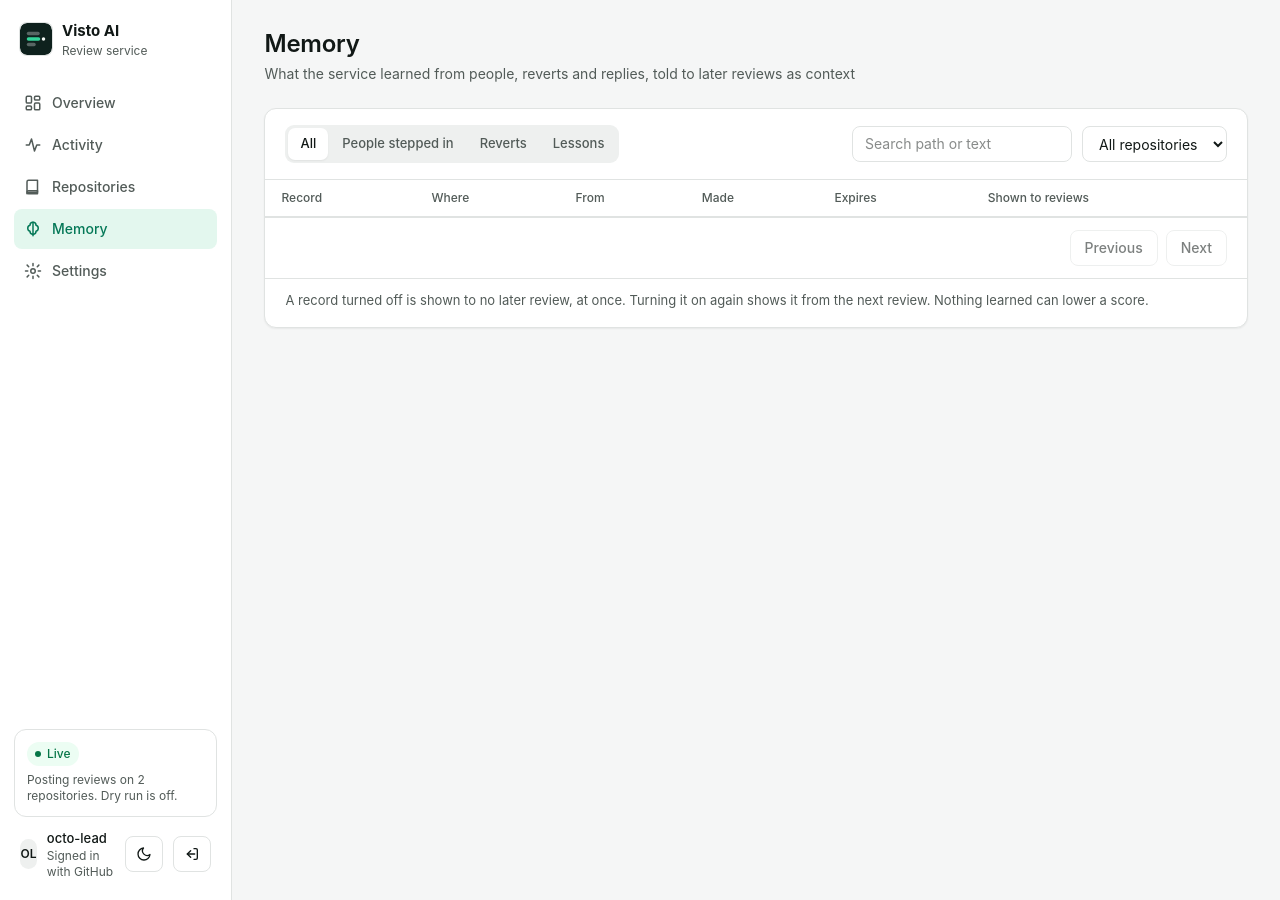
Test case: an older read that answers after a filter change is never shown
Click the button "Reverts". click: (503, 144)
box: [468,128,539,160]
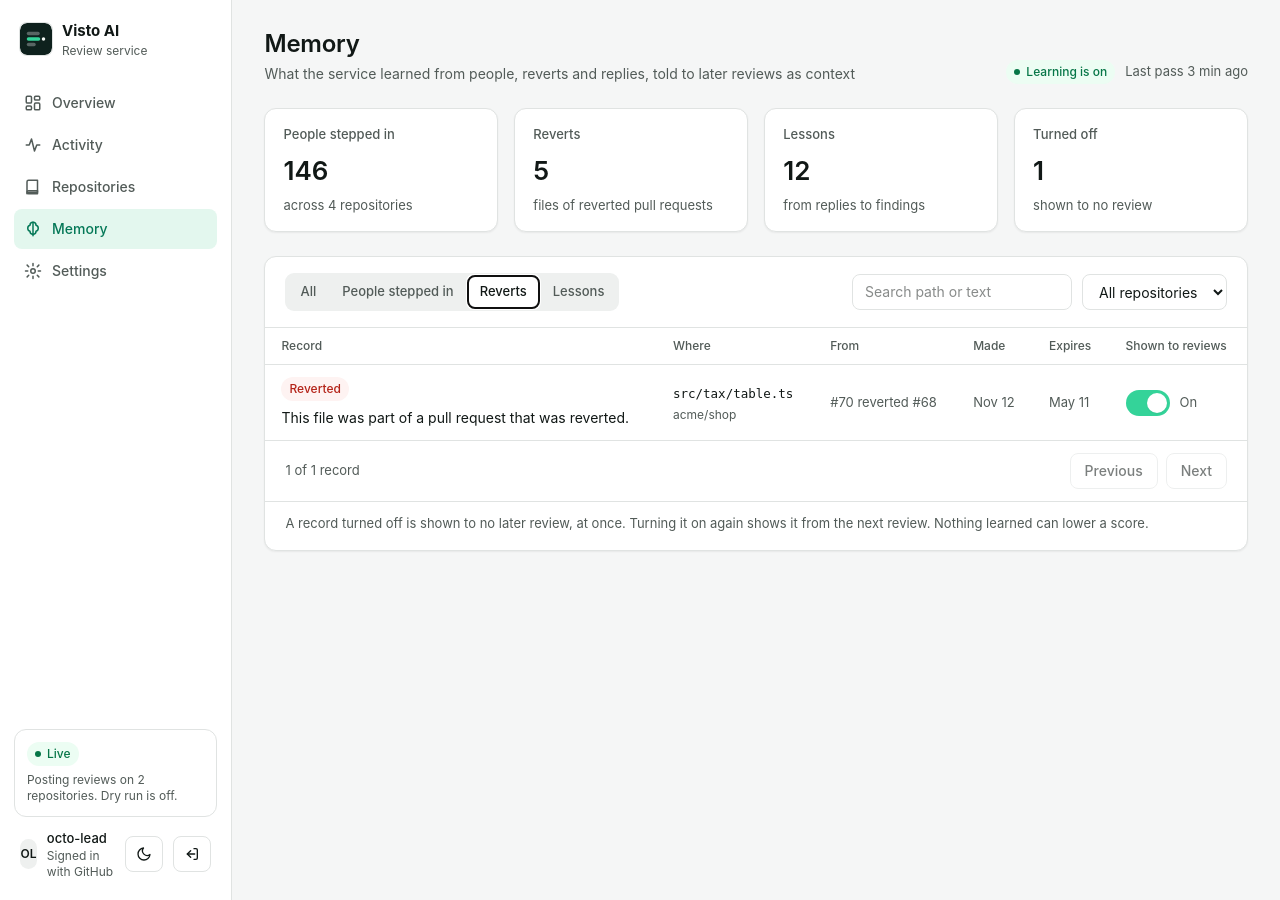
Now the text "#70 reverted #68" is shown, box [814,364,957,440]
